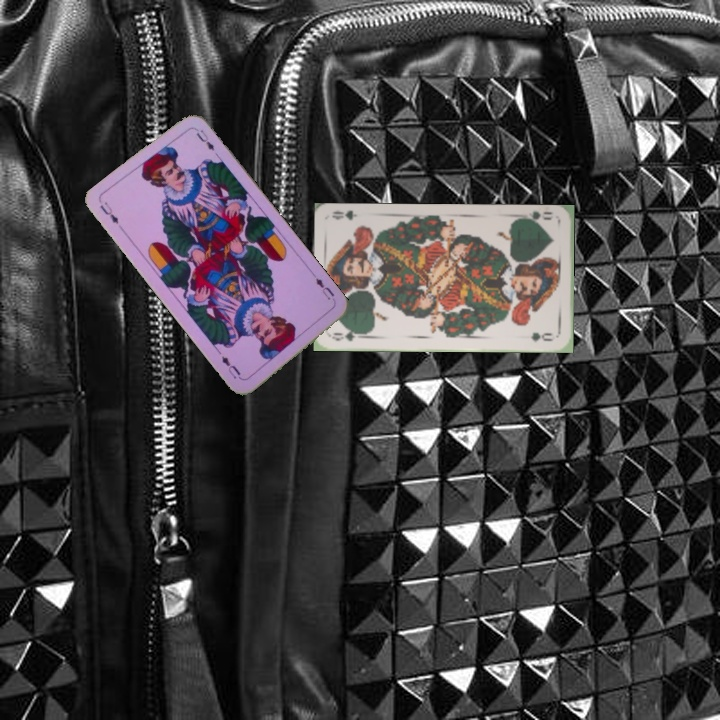EU: (311, 274, 339, 307), (96, 198, 121, 227)
GO: (517, 207, 556, 227), (328, 327, 369, 344)
